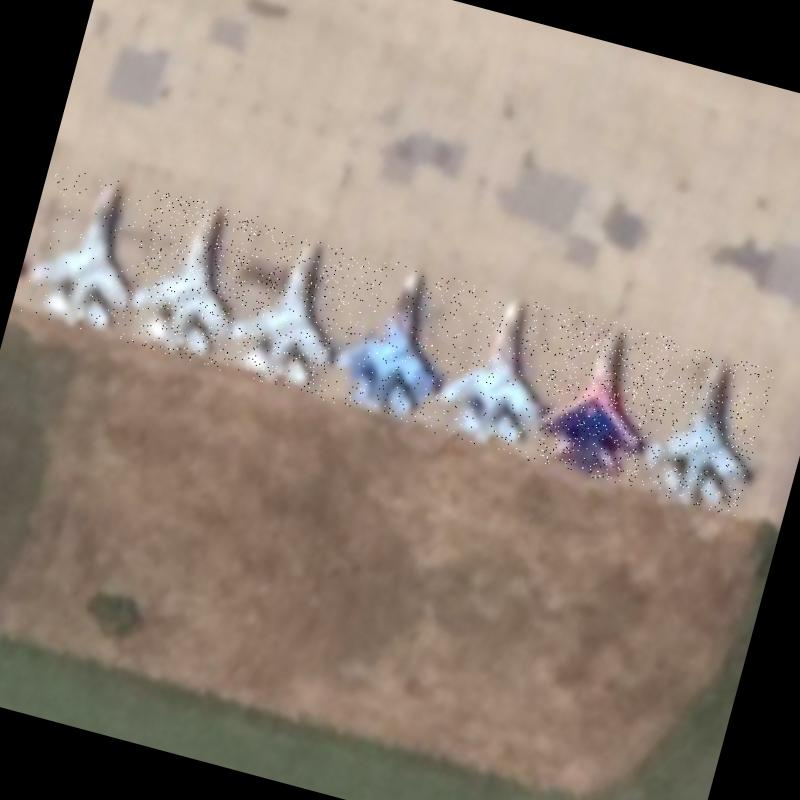A1: (526, 307, 674, 488), (117, 188, 260, 368), (322, 252, 468, 428), (216, 222, 360, 398), (633, 342, 776, 517), (427, 283, 567, 458), (17, 164, 157, 339)
